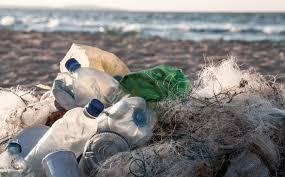Plastic: (19, 92, 110, 165), (59, 48, 134, 113)
